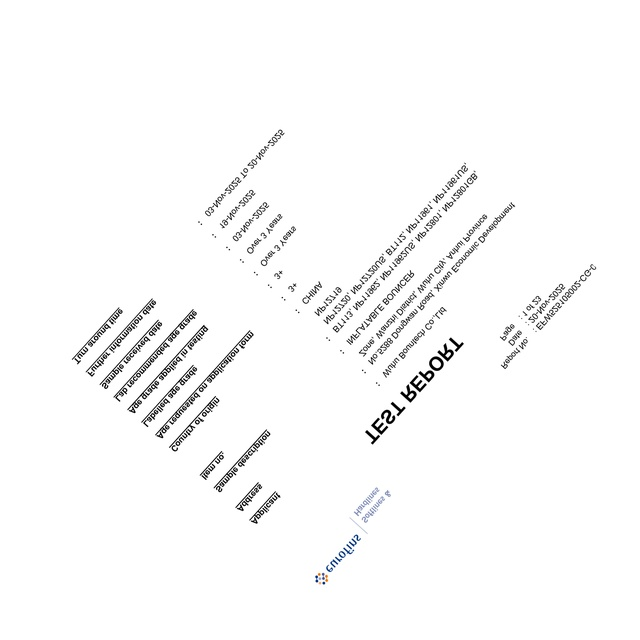eurofins: (309, 527, 365, 588)
